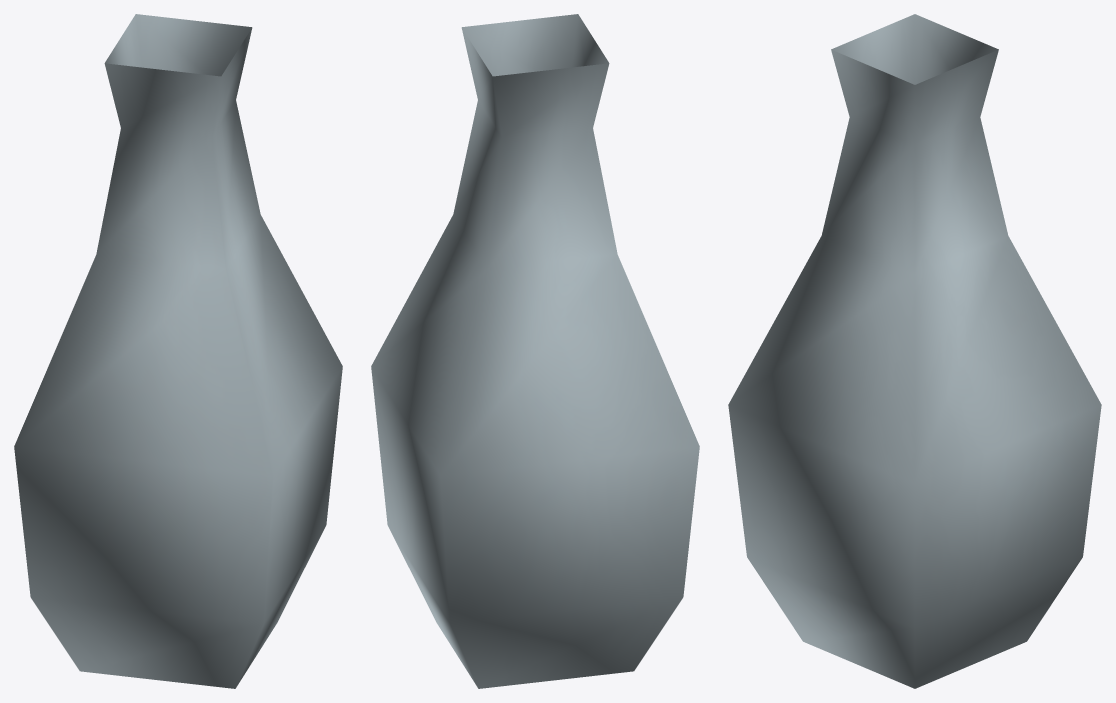
The model's file is Carafe_1_LOD2.gltf.
The picture shows the model from 3 angles, left to right: view 1: azimuth 30°, elevation 25°; view 2: azimuth 150°, elevation 25°; view 3: azimuth 270°, elevation 25°; orthographic projection.
Visible parts, largest first — view 1: Carafe_1_LOD2; view 2: Carafe_1_LOD2; view 3: Carafe_1_LOD2.
Boxes of the visible parts, x1=… form: Carafe_1_LOD2: x1=14, y1=14, x2=342, y2=688; Carafe_1_LOD2: x1=371, y1=14, x2=699, y2=688; Carafe_1_LOD2: x1=728, y1=14, x2=1101, y2=688.
Size of the model in its own units: 0.2 by 0.35 by 0.2.
Materials: 1 (1 with a texture image).
